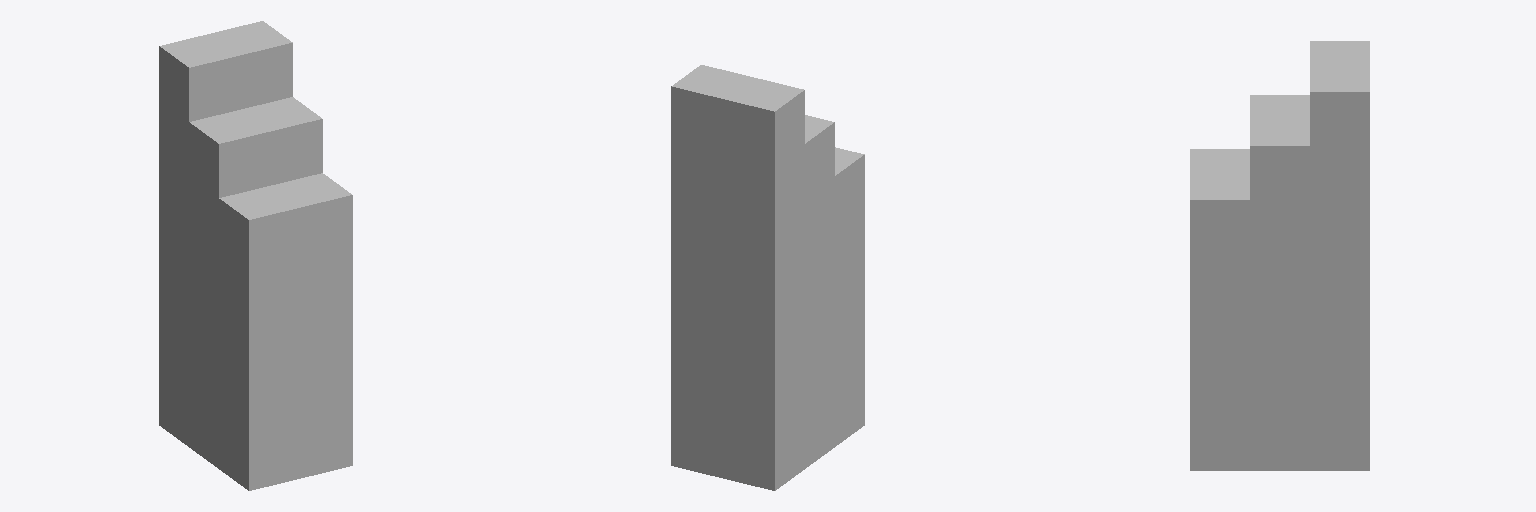
Rendered from bombeman-1-legl.obj.
The picture shows the model from 3 angles: view 1: azimuth 30°, elevation 25°; view 2: azimuth 150°, elevation 25°; view 3: azimuth 270°, elevation 25°; orthographic projection.
Parts seen in each view (by area): view 1: legl; view 2: legl; view 3: legl.
Boxes of the visible parts, x1,y1,x2,y2 form: legl: [159, 21, 352, 490]; legl: [671, 65, 864, 490]; legl: [1190, 41, 1369, 470].
Size of the model in its own units: 0.2 by 0.7 by 0.3.